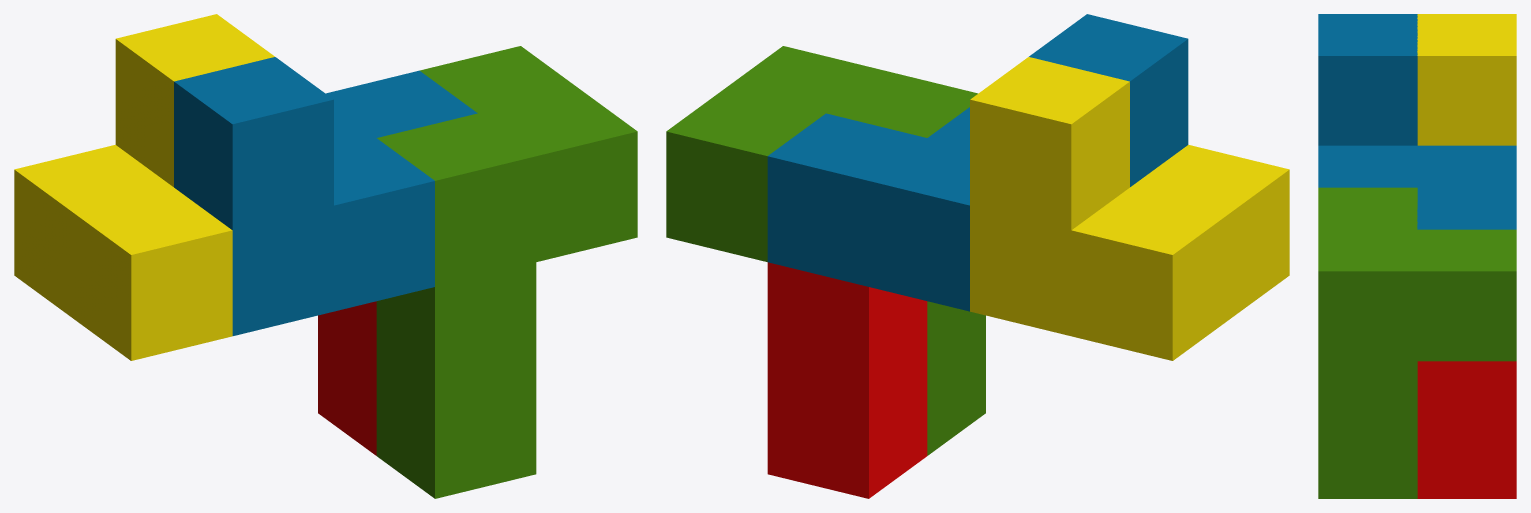
3 renders of one model, left to right at view 1: azimuth 30°, elevation 25°; view 2: azimuth 150°, elevation 25°; view 3: azimuth 270°, elevation 25°, orthographic. The views are drawn at different scales.
Parts seen in each view (by area): view 1: mergedBlocks(Clone); view 2: mergedBlocks(Clone); view 3: mergedBlocks(Clone).
Part boxes in pixels (x1,y1,x2,y2): mergedBlocks(Clone): [14, 14, 637, 498]; mergedBlocks(Clone): [666, 14, 1289, 498]; mergedBlocks(Clone): [1318, 14, 1516, 498].
Size of the model in its own units: 5 by 4 by 2.
Materials: 4 (4 with a texture image).
